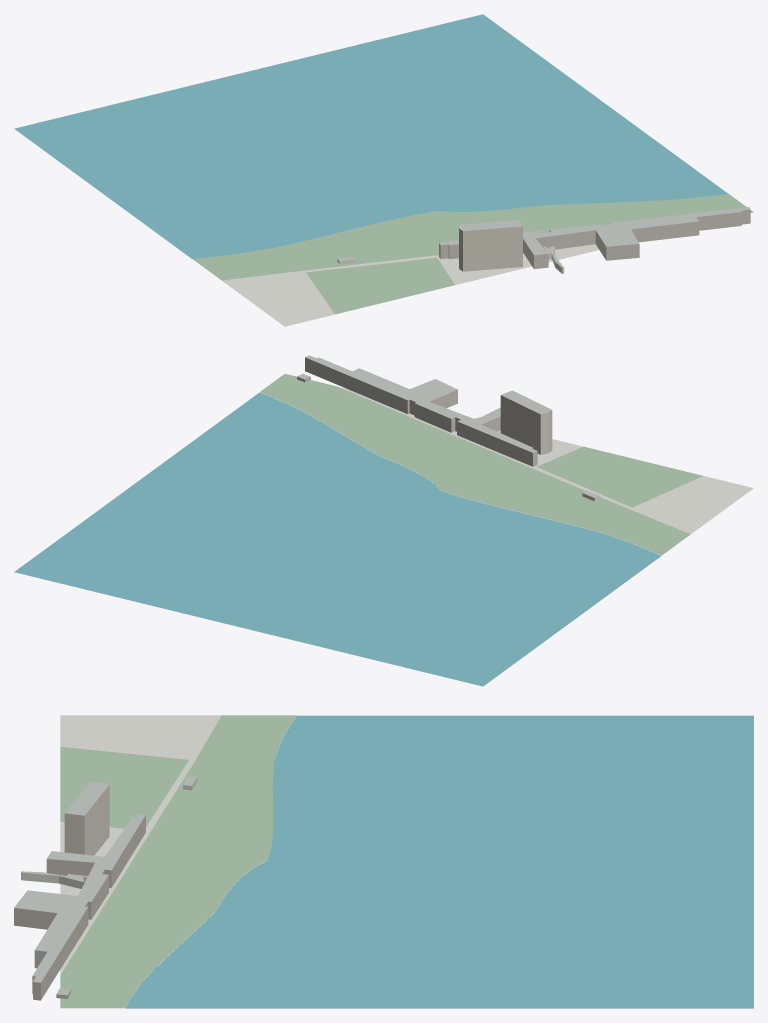
3 renders of one model, top to bottom at view 1: azimuth 30°, elevation 25°; view 2: azimuth 150°, elevation 25°; view 3: azimuth 270°, elevation 25°, orthographic. The views are drawn at different scales.
Parts seen in each view (by area): view 1: city; view 2: city; view 3: city.
Part boxes in pixels (bbox=[...]): city: bbox=[14, 14, 753, 326]; city: bbox=[14, 355, 753, 686]; city: bbox=[14, 715, 753, 1008].
Bounding box in the file's own units: 500 × 41.48 × 533.
